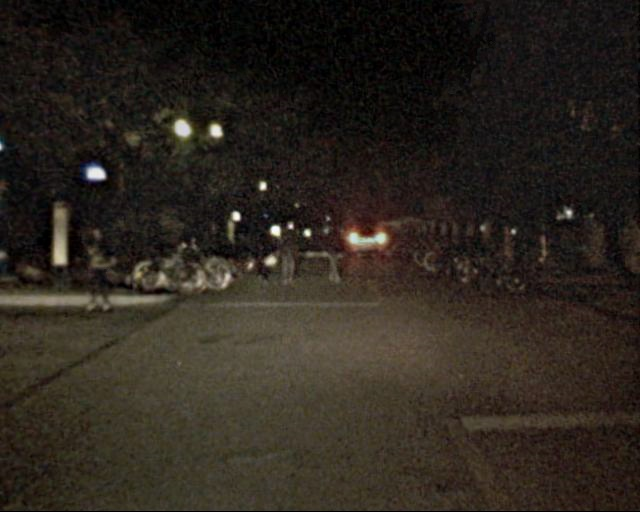person: (84, 216, 126, 311), (318, 220, 346, 288), (246, 217, 272, 283), (279, 223, 304, 291)
